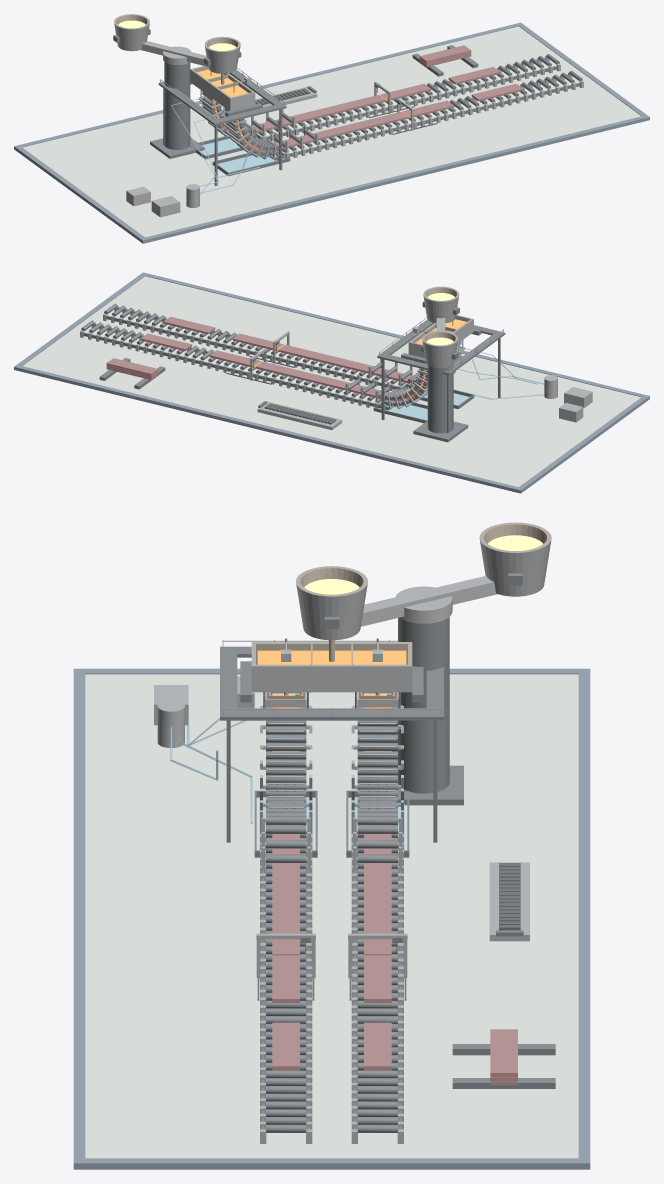
Rendered from continuous_casting.glb.
3 views of the same model, one above another, from view 1: azimuth 30°, elevation 25°; view 2: azimuth 150°, elevation 25°; view 3: azimuth 270°, elevation 25° (orthographic). The views are drawn at different scales.
Visible parts, largest first — view 1: 00_Site, 08_Withdrawal, 01_LadleTurret, 03_Platform, Tundish, 12_Product, 07_Cooling, 10_Utilities, 06_Segments, ActiveLadle, StandbyLadle, Strand_1 (+6 smaller); view 2: 00_Site, 08_Withdrawal, 01_LadleTurret, 03_Platform, 12_Product, 10_Utilities, StandbyLadle, Strand_2, ActiveLadle, 11_Startup, 07_Cooling, Tundish (+5 smaller); view 3: 00_Site, 08_Withdrawal, 06_Segments, Tundish, 01_LadleTurret, 03_Platform, 12_Product, ActiveLadle, StandbyLadle, 07_Cooling, LadleTurret, 11_Startup (+6 smaller).
Part boxes in pixels (box(x1,y1,x2,y2)): 00_Site: box(14, 22, 649, 243); 08_Withdrawal: box(251, 54, 583, 160); 01_LadleTurret: box(150, 62, 204, 158); 03_Platform: box(158, 67, 286, 185); Tundish: box(190, 66, 262, 116); 12_Product: box(412, 45, 523, 101); 07_Cooling: box(190, 104, 290, 176); 10_Utilities: box(126, 96, 260, 217); 06_Segments: box(198, 96, 279, 159); ActiveLadle: box(204, 36, 241, 73); StandbyLadle: box(113, 14, 150, 51); Strand_1: box(237, 111, 408, 151); 00_Site: box(14, 272, 649, 493); 08_Withdrawal: box(80, 303, 412, 410); 01_LadleTurret: box(413, 364, 468, 442); 03_Platform: box(377, 317, 505, 432); 12_Product: box(99, 316, 215, 389); 10_Utilities: box(454, 346, 592, 422); StandbyLadle: box(421, 331, 458, 368); Strand_2: box(255, 361, 426, 401); ActiveLadle: box(422, 286, 459, 323); 11_Startup: box(257, 401, 342, 429); 07_Cooling: box(373, 353, 474, 423); Tundish: box(401, 315, 481, 363); 00_Site: box(73, 668, 590, 1169); 08_Withdrawal: box(260, 817, 403, 1143); 06_Segments: box(260, 705, 403, 834); Tundish: box(240, 642, 423, 702); 01_LadleTurret: box(398, 617, 463, 805); 03_Platform: box(220, 640, 443, 842); 12_Product: box(272, 1022, 555, 1088); ActiveLadle: box(296, 566, 367, 640); StandbyLadle: box(479, 522, 551, 596); 07_Cooling: box(254, 723, 409, 857); LadleTurret: box(361, 576, 497, 626); 11_Startup: box(489, 862, 529, 941).
Size of the model in its own units: 204 by 45 by 90.
